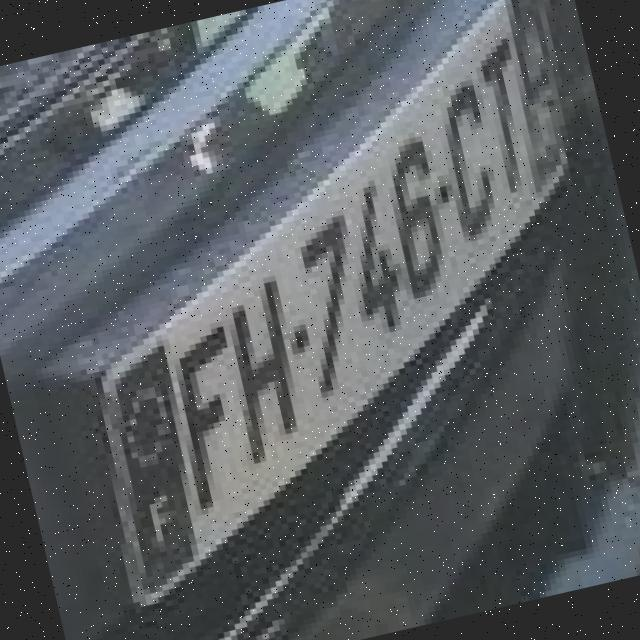EU: (120, 0, 584, 597)
France: (117, 344, 204, 591)
